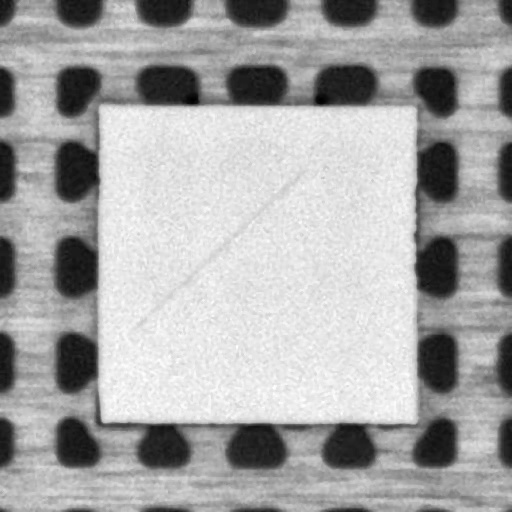DIE_CRACK: (128, 172, 300, 332)
